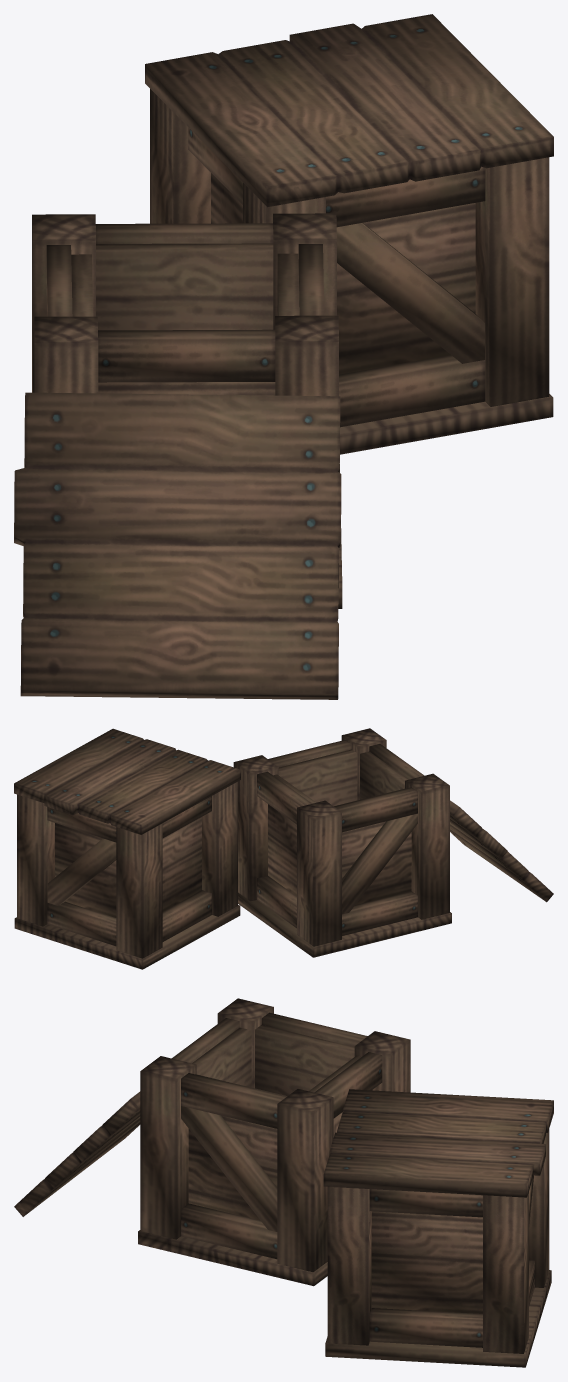
File: ящик.fbx
3 views of the same model, one above another, from view 1: azimuth 30°, elevation 25°; view 2: azimuth 150°, elevation 25°; view 3: azimuth 270°, elevation 25° (orthographic). The views are drawn at different scales.
Visible parts, largest first — view 1: Cube.055, Cube.009, Cube.061, Cube.008, Cube.062, Cube.010, Cube.060, Cube.013, Cube.011, Cube.002, Cube.054, Cube.007 (+5 smaller); view 2: Cube.009, Cube.054, Cube.002, Cube.056, Cube.060, Cube.008, Cube.061, Cube.007, Cube.059, Cube.053, Cube.003, Cube.010 (+10 smaller); view 3: Cube.009, Cube.008, Cube.054, Cube.003, Cube.056, Cube.060, Cube.059, Cube.058, Cube.007, Cube.005, Cube.055, Cube.057 (+5 smaller).
Part boxes in pixels (x1,y1,x2,y2): Cube.055: (14,392,341,699); Cube.009: (145,14,553,207); Cube.061: (96,243,275,395); Cube.008: (475,157,549,406); Cube.062: (95,223,275,382); Cube.010: (337,203,475,374); Cube.060: (34,315,338,587); Cube.013: (336,223,484,363); Cube.011: (339,355,485,427); Cube.002: (150,89,325,223); Cube.054: (32,213,336,392); Cube.007: (340,394,553,454); Cube.009: (14,728,240,834); Cube.054: (233,755,341,946); Cube.002: (116,781,237,958); Cube.056: (278,749,411,904); Cube.060: (341,728,449,919); Cube.008: (17,794,54,926); Cube.061: (268,751,408,895); Cube.007: (14,905,240,969); Cube.059: (268,740,417,832); Cube.053: (238,892,451,957); Cube.003: (162,817,201,911); Cube.010: (55,823,116,917); Cube.009: (323,1089,553,1197); Cube.008: (327,1187,528,1353); Cube.054: (277,1031,410,1272); Cube.003: (371,1211,482,1313); Cube.056: (188,1025,354,1220); Cube.060: (140,998,273,1239); Cube.059: (181,1012,367,1128); Cube.058: (181,1106,277,1231); Cube.007: (325,1270,551,1367); Cube.005: (369,1308,482,1347); Cube.055: (14,1091,140,1216); Cube.057: (181,1203,277,1259).
Size of the model in its own units: 599 by 224 by 592.
